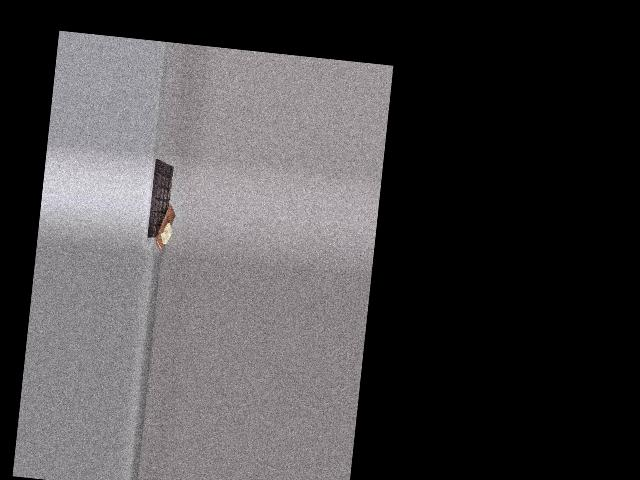chocolate: (144, 158, 177, 244)
